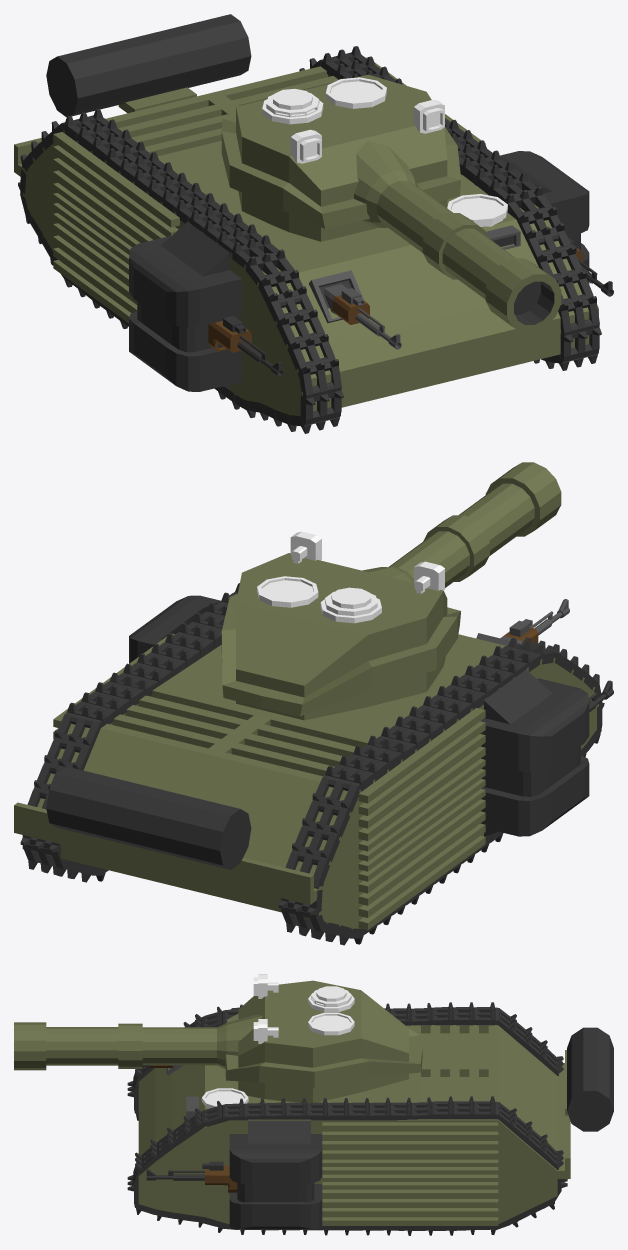
The model's file is OBTCrocodile.fbx.
3 renders of one model, top to bottom at view 1: azimuth 30°, elevation 25°; view 2: azimuth 150°, elevation 25°; view 3: azimuth 270°, elevation 25°, orthographic. The views are drawn at different scales.
Visible parts, largest first — view 1: Cube.001, Cube.006, Cylinder.001, Cube.005, Cube.009, Cube.003, Circle.002, Cube.007, Circle.001, Circle, Cube.004, Cube.002; view 2: Cube.001, Cube.006, Cube.005, Cylinder.001, Circle.002, Cube.009, Circle.001, Cube.003; view 3: Cube.001, Cube.005, Cylinder.001, Cube.006, Cube.008, Circle.002, Circle.001, Cube.009, Circle.
Boxes of the visible parts, box(x1,y1,x2,y2) form: Cube.001: box(14, 14, 598, 416); Cube.006: box(18, 109, 343, 433); Cylinder.001: box(354, 141, 561, 332); Cube.005: box(299, 46, 601, 370); Cube.009: box(290, 99, 444, 163); Cube.003: box(324, 284, 401, 349); Circle.002: box(262, 88, 323, 124); Cube.007: box(208, 316, 283, 376); Circle.001: box(325, 77, 386, 108); Circle: box(447, 194, 507, 226); Cube.004: box(309, 270, 363, 323); Cube.002: box(486, 225, 520, 249); Cube.001: box(14, 553, 598, 930); Cube.006: box(278, 637, 604, 945); Cube.005: box(20, 583, 239, 882); Cylinder.001: box(362, 462, 561, 587); Circle.002: box(320, 587, 381, 623); Cube.009: box(290, 531, 444, 593); Circle.001: box(257, 576, 318, 607); Cube.003: box(500, 599, 569, 645); Cube.001: box(138, 980, 613, 1228); Cube.005: box(127, 1096, 567, 1235); Cylinder.001: box(14, 1014, 262, 1070); Cube.006: box(127, 1002, 563, 1120); Cube.008: box(146, 1161, 237, 1192); Circle.002: box(308, 986, 354, 1012); Circle.001: box(308, 1012, 354, 1035); Cube.009: box(253, 974, 278, 1043); Circle: box(201, 1088, 248, 1108).
Bounding box in the file's own units: 9.6 × 5.4 × 15.95.
